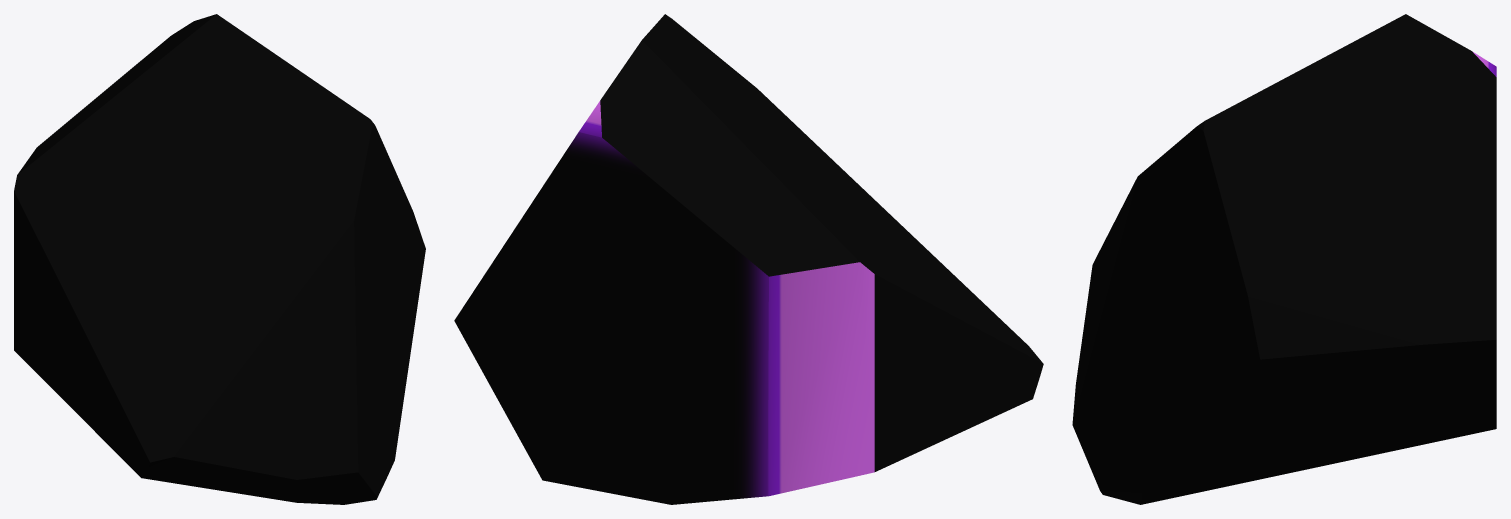
File: blockParticle_14.obj
3 views of the same model, side by side, from view 1: azimuth 30°, elevation 25°; view 2: azimuth 150°, elevation 25°; view 3: azimuth 270°, elevation 25° (orthographic). The views are drawn at different scales.
Visible parts, largest first — view 1: 立方体_cell.016; view 2: 立方体_cell.016; view 3: 立方体_cell.016.
Part boxes in pixels (x1,y1,x2,y2): 立方体_cell.016: (14, 14, 425, 504); 立方体_cell.016: (454, 14, 1043, 504); 立方体_cell.016: (1072, 14, 1496, 504).
Size of the model in its own units: 1.34 by 1.5 by 1.24.
2 materials, 2 textured.
